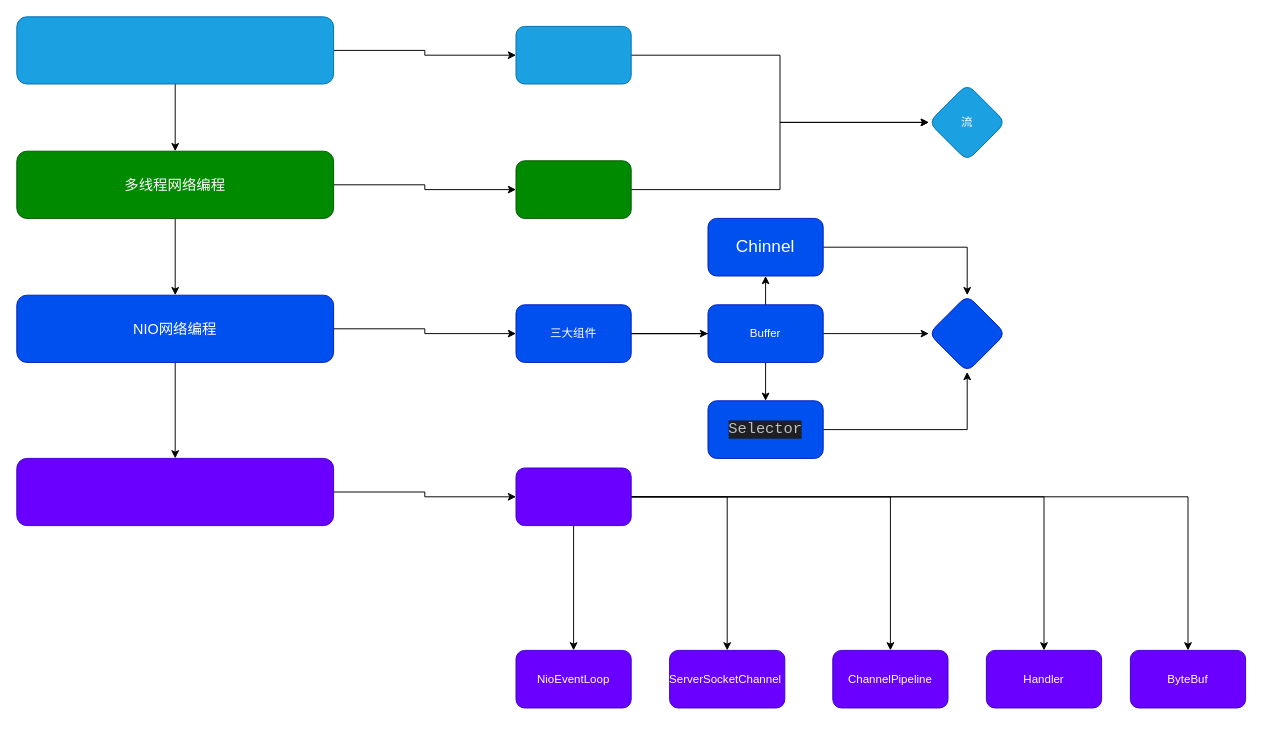
Some shapes in this 1262 by 732 pixel diagram are drawn without their labels. The shapes that lost their labels are listed below. From the top down, each one's centre as x and y in pixels, then its label:
At [175,50]: "传统网络编程".
At [573,54]: "阻塞编程".
At [573,189]: "池化技术".
At [967,333]: "通道".
At [175,491]: "Netty网络编程".
At [573,496]: "优化NIO".
